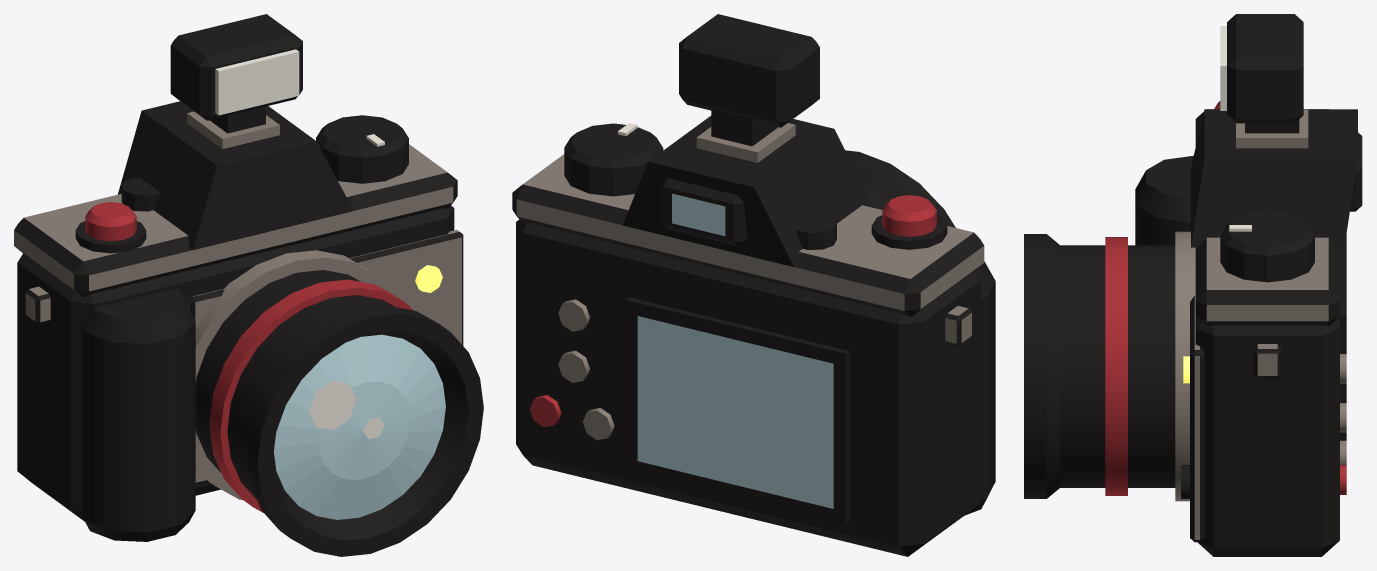
File: camera.glb
3 views of the same model, side by side, from view 1: azimuth 30°, elevation 25°; view 2: azimuth 150°, elevation 25°; view 3: azimuth 270°, elevation 25° (orthographic). The views are drawn at different scales.
Visible parts, largest first — view 1: cam_body, cam_lens, cam_flash, cam_shutter; view 2: cam_body, cam_lens, cam_shutter; view 3: cam_body, cam_lens, cam_flash.
Boxes of the visible parts, <box> form: cam_body: <box>14,14,463,541</box>; cam_lens: <box>195,250,483,556</box>; cam_flash: <box>215,49,299,115</box>; cam_shutter: <box>85,202,136,241</box>; cam_body: <box>512,14,995,556</box>; cam_lens: <box>845,150,955,227</box>; cam_shutter: <box>882,195,936,236</box>; cam_body: <box>1135,14,1362,556</box>; cam_lens: <box>1024,231,1195,501</box>; cam_flash: <box>1220,26,1226,110</box>.
Size of the model in its own units: 1.07 by 1.09 by 0.751.
